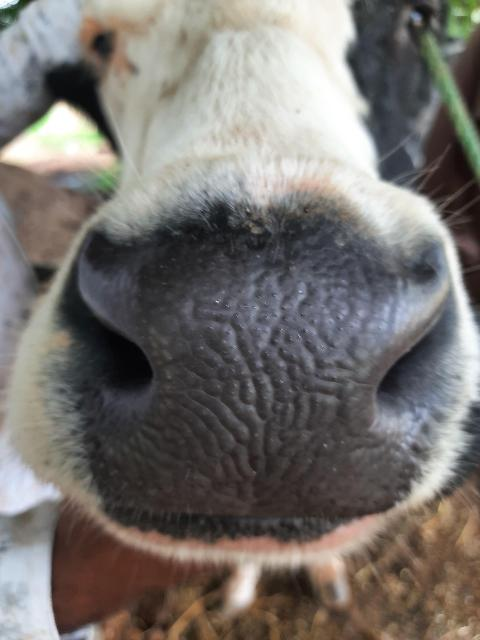Muzzle: (103, 250, 395, 506)
